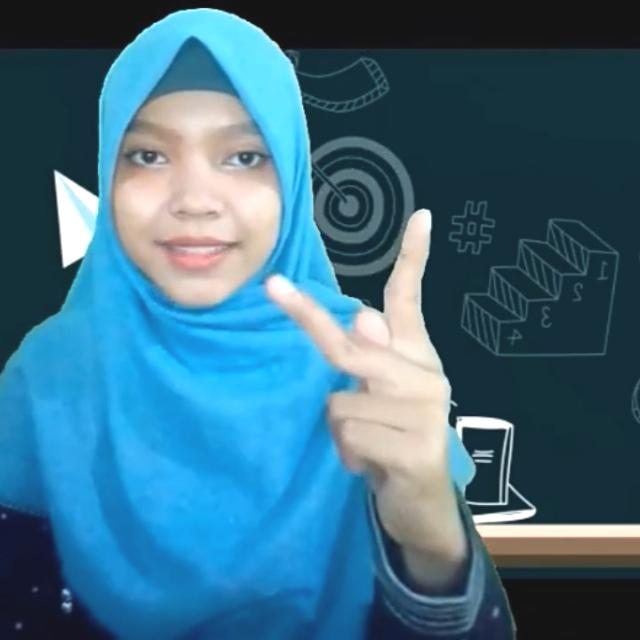K: (266, 210, 450, 502)
